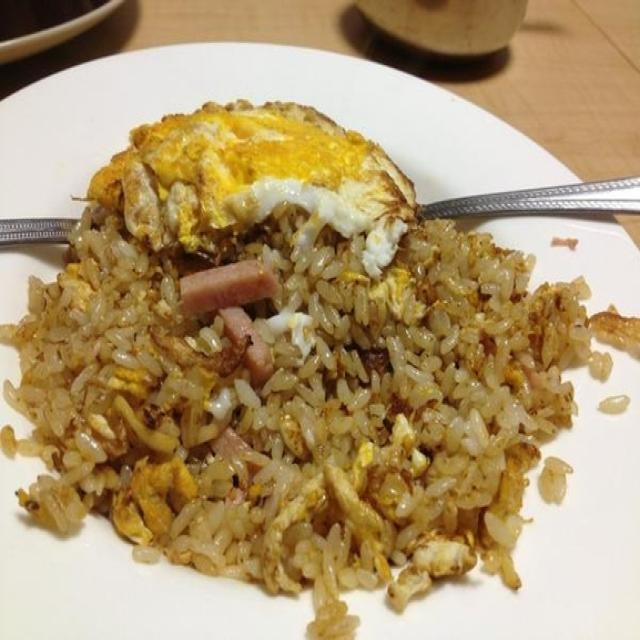米饭主食: (21, 64, 613, 624)
